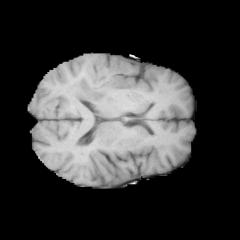glioma: (67, 55, 133, 103)
